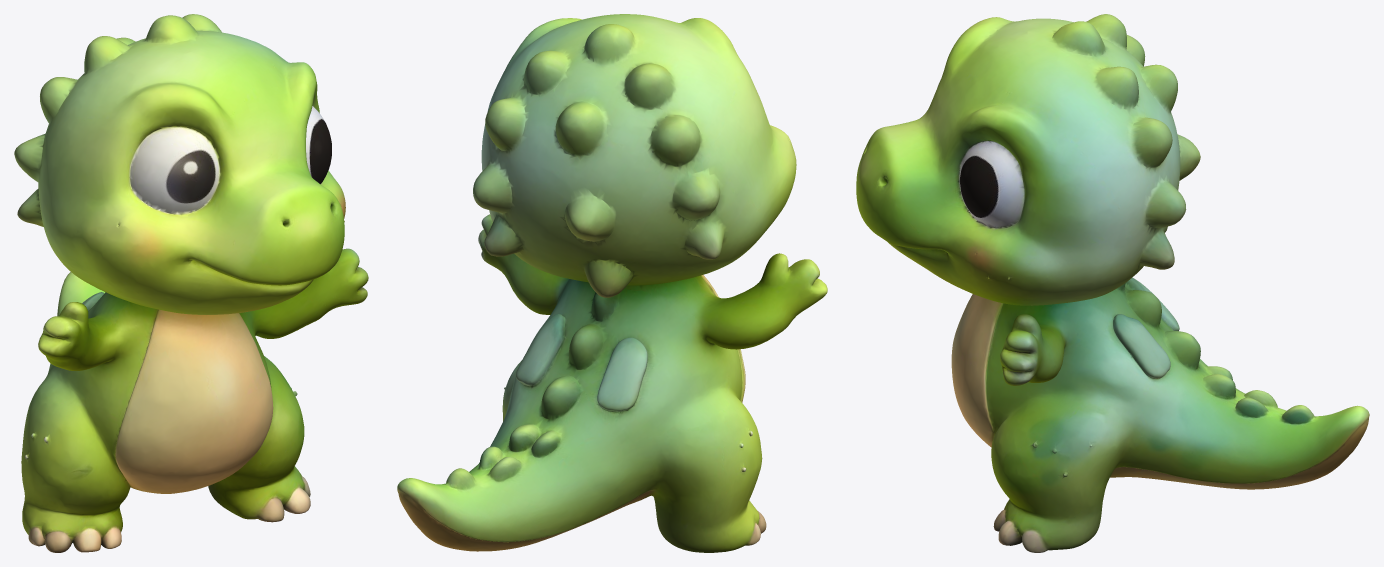
Rendered from dino.glb.
The picture shows the model from 3 angles, left to right: view 1: azimuth 30°, elevation 25°; view 2: azimuth 150°, elevation 25°; view 3: azimuth 270°, elevation 25°; orthographic projection. The views are drawn at different scales.
Parts seen in each view (by area): view 1: tripo_node_9d62854e-9307-4078-b578-24fa5471348c; view 2: tripo_node_9d62854e-9307-4078-b578-24fa5471348c; view 3: tripo_node_9d62854e-9307-4078-b578-24fa5471348c.
Part boxes in pixels (x1,y1,x2,y2): tripo_node_9d62854e-9307-4078-b578-24fa5471348c: (14,14,368,552); tripo_node_9d62854e-9307-4078-b578-24fa5471348c: (397,14,827,552); tripo_node_9d62854e-9307-4078-b578-24fa5471348c: (856,14,1369,552).
Size of the model in its own units: 0.7195 by 1 by 0.9755.
Materials: 1 (1 with a texture image).
